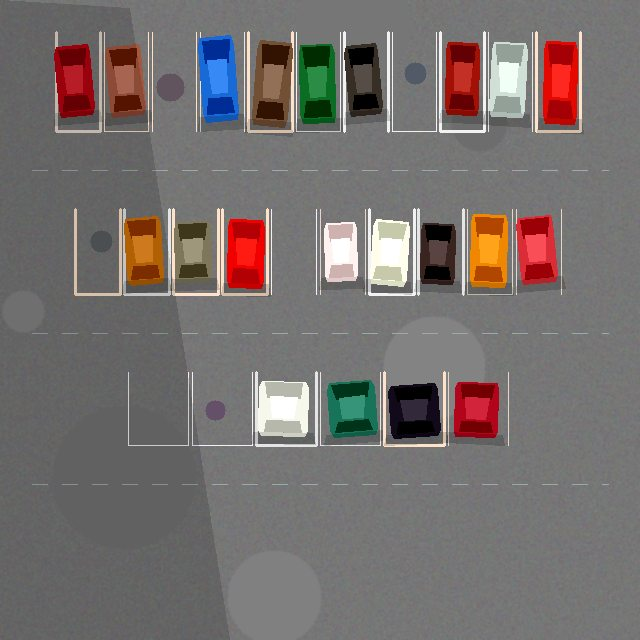space-empty: (128, 372, 188, 445), (192, 372, 252, 445), (152, 32, 196, 131), (392, 32, 436, 131), (75, 209, 120, 294), (271, 209, 316, 294)
space-occupied: (256, 372, 316, 445), (320, 372, 380, 445), (384, 372, 444, 445), (448, 372, 508, 445), (56, 32, 100, 131), (104, 32, 148, 131), (200, 32, 244, 131), (248, 32, 292, 131), (296, 32, 340, 131), (344, 32, 388, 131), (440, 32, 484, 131), (488, 32, 532, 131), (536, 32, 580, 131), (124, 209, 169, 294), (173, 209, 218, 294), (222, 209, 267, 294), (320, 209, 365, 294), (369, 209, 414, 294), (418, 209, 463, 294), (467, 209, 512, 294), (516, 209, 561, 294)
